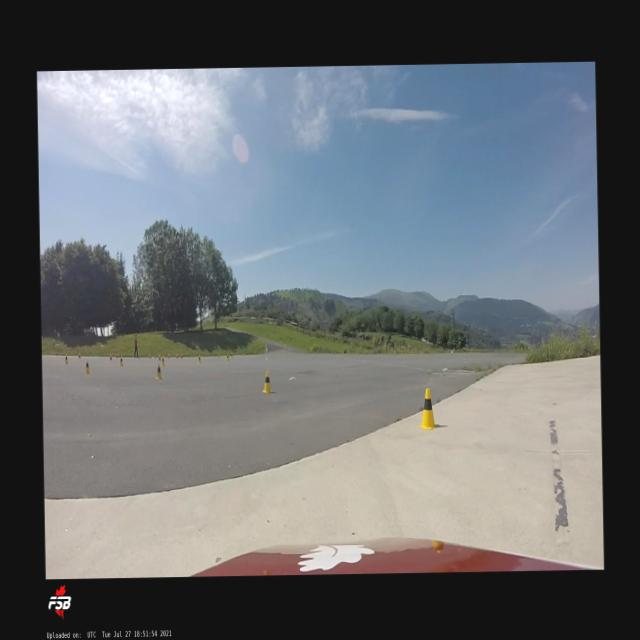orange_cone: (109, 352, 112, 360), (78, 350, 81, 358), (158, 353, 160, 361), (180, 352, 182, 359)
yellow_cone: (416, 388, 439, 429), (261, 371, 272, 393), (156, 362, 162, 380), (85, 360, 90, 374), (119, 354, 123, 366), (160, 356, 164, 366), (197, 354, 201, 364), (64, 354, 68, 364), (225, 354, 228, 361)
